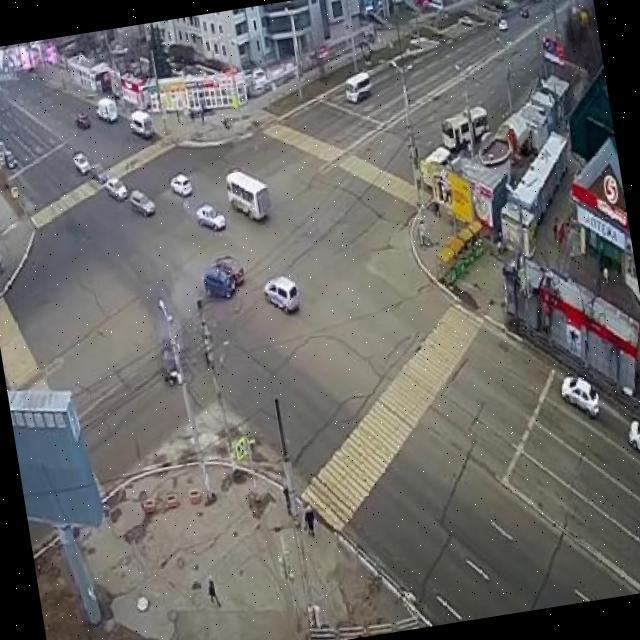accident: (198, 252, 250, 304)
